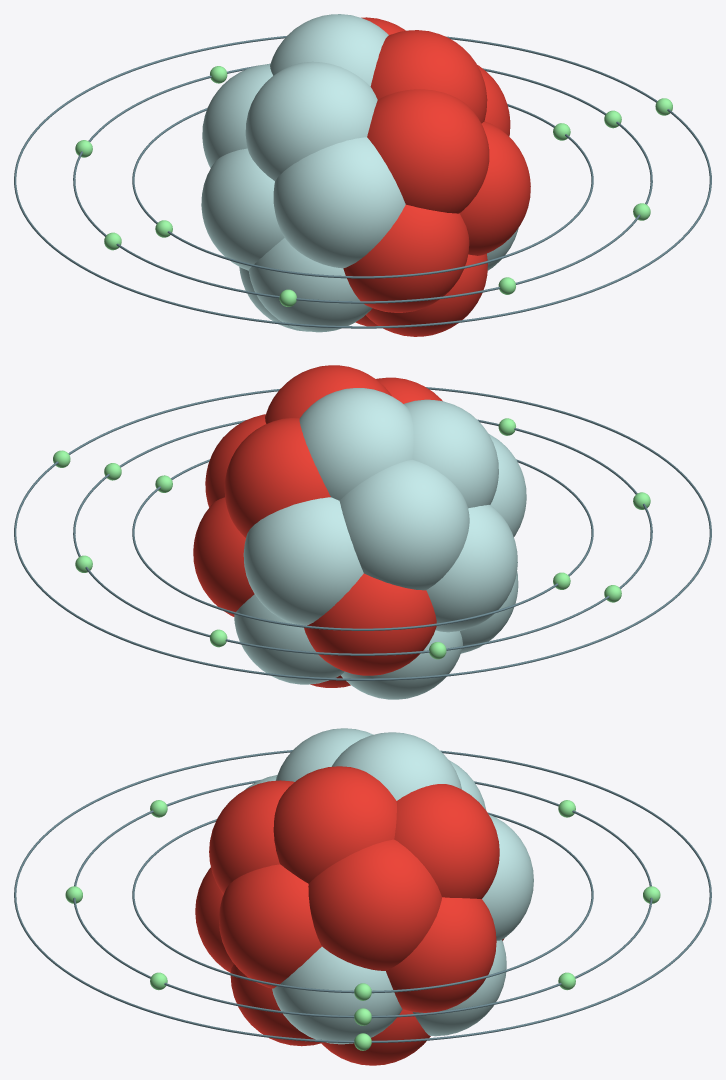
The model's file is sodium.glb.
3 renders of one model, top to bottom at view 1: azimuth 30°, elevation 25°; view 2: azimuth 150°, elevation 25°; view 3: azimuth 270°, elevation 25°, orthographic.
Visible parts, largest first — view 1: element_011_sodium; view 2: element_011_sodium; view 3: element_011_sodium.
Boxes of the visible parts, x1=… form: element_011_sodium: x1=14, y1=14, x2=711, y2=336; element_011_sodium: x1=14, y1=365, x2=711, y2=699; element_011_sodium: x1=14, y1=728, x2=711, y2=1065.
Bounding box in the file's own units: 6.72 × 3.18 × 6.65.
